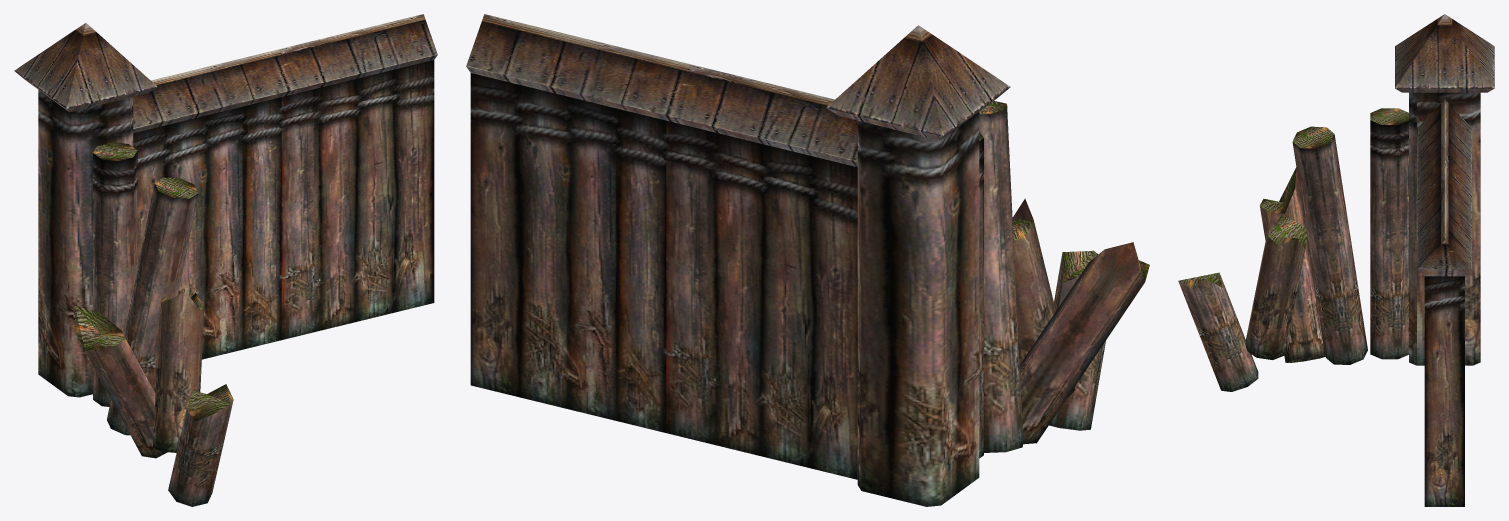
File: S_RFCrn3.glb
3 views of the same model, side by side, from view 1: azimuth 30°, elevation 25°; view 2: azimuth 150°, elevation 25°; view 3: azimuth 270°, elevation 25° (orthographic). The views are drawn at different scales.
Visible parts, largest first — view 1: S_RFCrn3-col; view 2: S_RFCrn3-col; view 3: S_RFCrn3-col.
Part boxes in pixels (left/top/right/bottom): S_RFCrn3-col: left=14, top=14, right=437, bottom=506; S_RFCrn3-col: left=466, top=14, right=1149, bottom=506; S_RFCrn3-col: left=1178, top=14, right=1494, bottom=506.
Bounding box in the file's own units: 5.91 × 5.2 × 3.98.
Materials: 4 (4 with a texture image).
